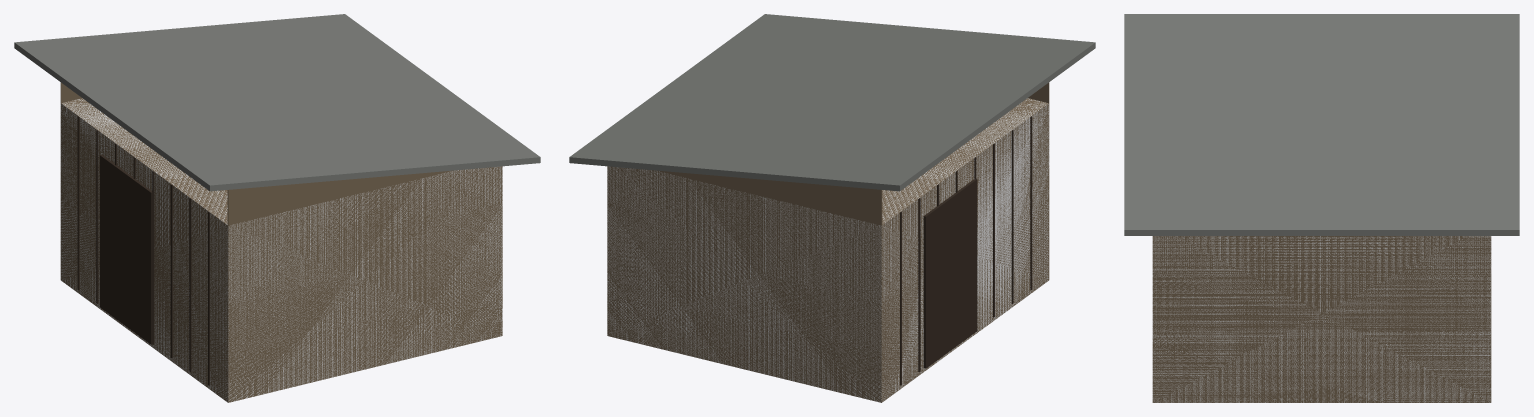
File: izba-shed.glb
3 renders of one model, left to right at view 1: azimuth 30°, elevation 25°; view 2: azimuth 150°, elevation 25°; view 3: azimuth 270°, elevation 25°, orthographic.
Parts seen in each view (by area): view 1: 00_#7a6a56, 02_paint2, solid, 01_#3a3028; view 2: 00_#7a6a56, 02_paint2, solid, 01_#3a3028; view 3: 02_paint2, 00_#7a6a56, solid.
Part boxes in pixels (x1=…): 00_#7a6a56: x1=60, y1=82, x2=502, y2=402; 02_paint2: x1=14, y1=14, x2=540, y2=191; solid: x1=60, y1=98, x2=502, y2=402; 01_#3a3028: x1=77, y1=116, x2=209, y2=385; 00_#7a6a56: x1=607, y1=82, x2=1049, y2=402; 02_paint2: x1=569, y1=14, x2=1095, y2=191; solid: x1=607, y1=98, x2=1049, y2=402; 01_#3a3028: x1=900, y1=116, x2=1032, y2=385; 02_paint2: x1=1124, y1=14, x2=1519, y2=235; 00_#7a6a56: x1=1152, y1=236, x2=1491, y2=402; solid: x1=1152, y1=236, x2=1491, y2=402.
Size of the model in its own units: 4.1 by 2.79 by 4.2.
